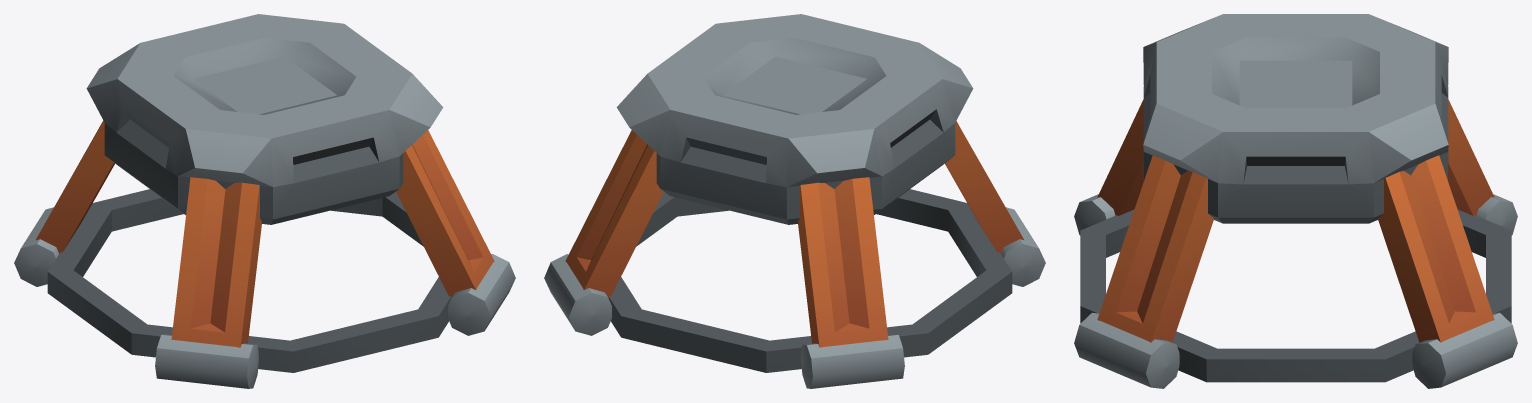
File: structure_low.glb
3 renders of one model, left to right at view 1: azimuth 30°, elevation 25°; view 2: azimuth 150°, elevation 25°; view 3: azimuth 270°, elevation 25°, orthographic. The views are drawn at different scales.
Parts seen in each view (by area): view 1: structure_low; view 2: structure_low; view 3: structure_low.
Part boxes in pixels (x1=…): structure_low: x1=14, y1=14, x2=515, y2=388; structure_low: x1=544, y1=14, x2=1045, y2=388; structure_low: x1=1074, y1=14, x2=1517, y2=388.
Size of the model in its own units: 1.75 by 1 by 1.75.
Materials: 1 (1 with a texture image).
